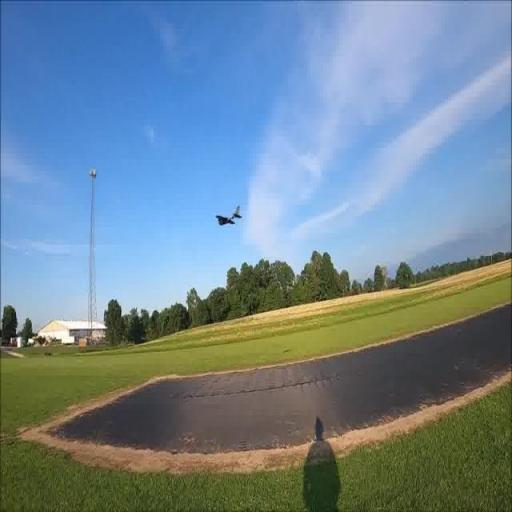uav: (214, 193, 244, 236)
